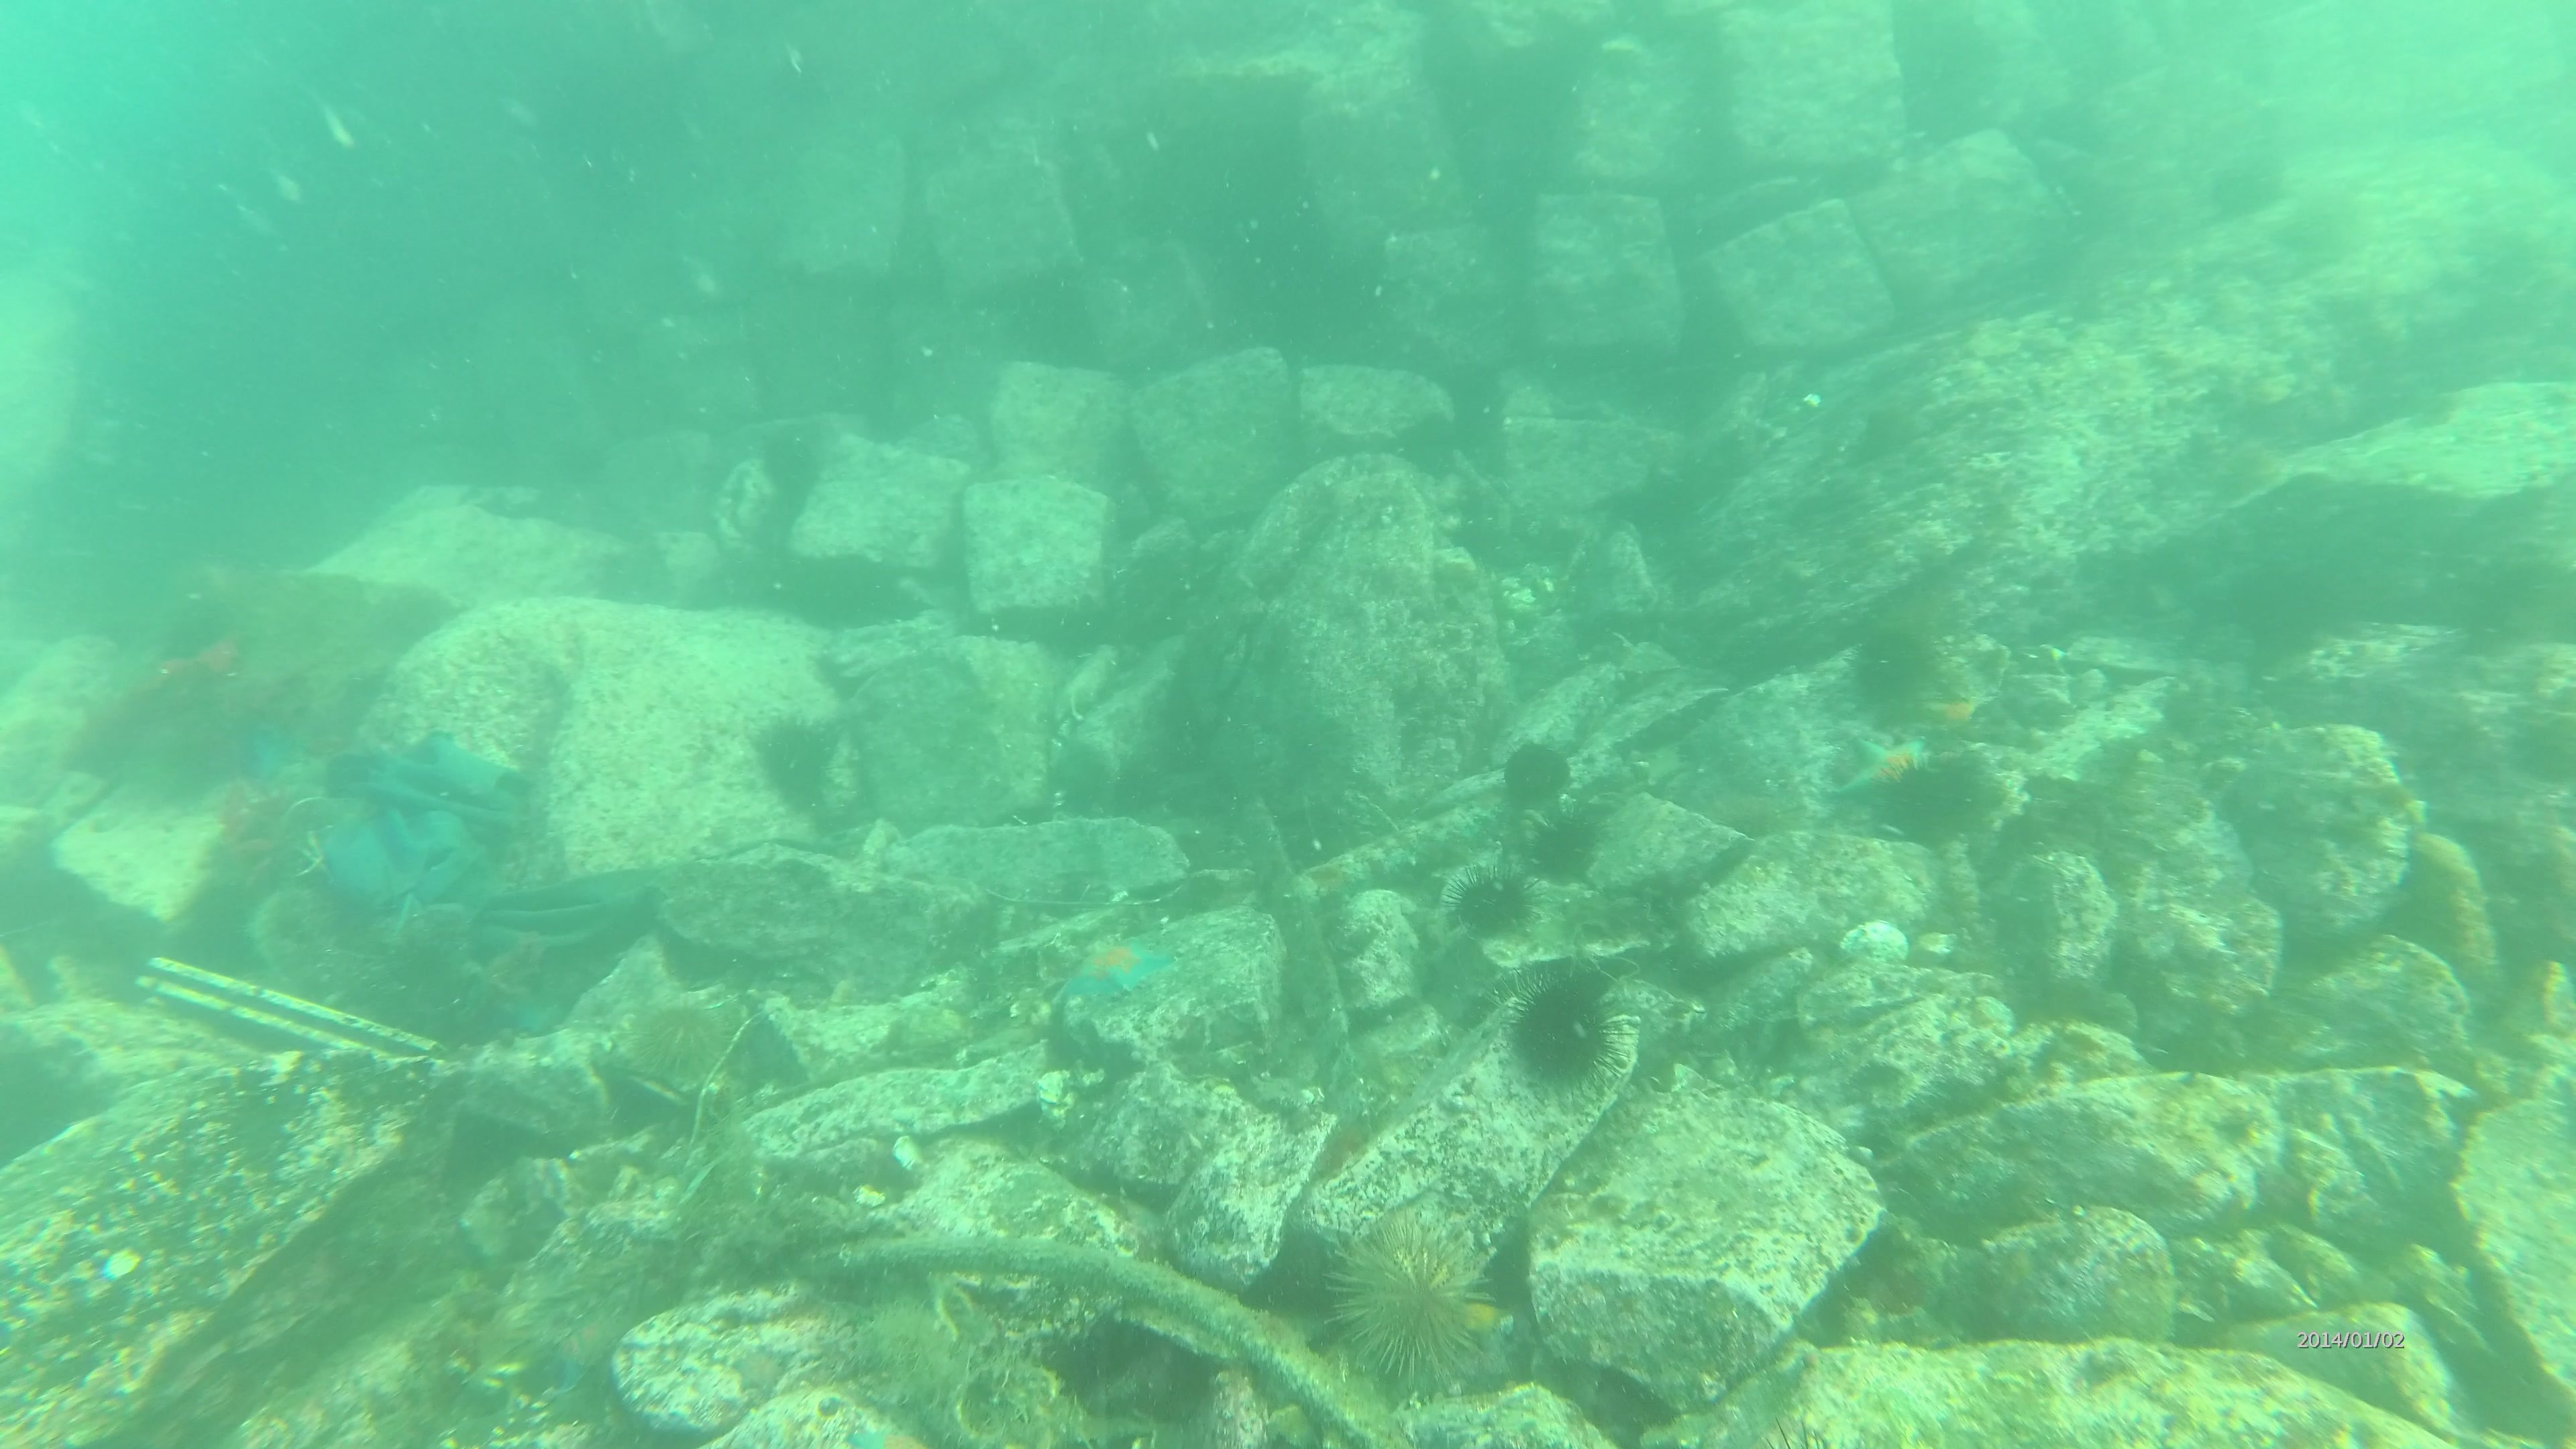echinus: (1307, 1217, 1490, 1382), (1506, 977, 1633, 1090), (750, 711, 849, 812), (633, 1000, 738, 1085), (1893, 755, 1997, 840), (1859, 614, 1946, 699), (1449, 862, 1532, 943), (1504, 732, 1578, 809), (1522, 814, 1599, 878)
starfish: (1047, 934, 1178, 1008), (1835, 729, 1948, 803)
